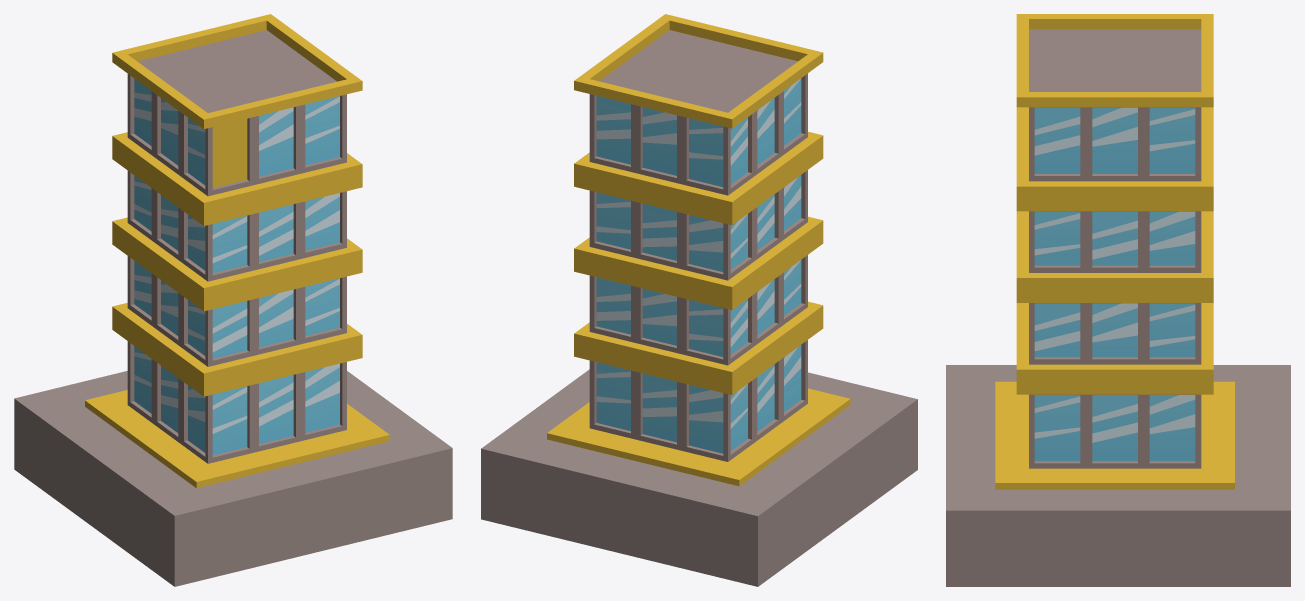
The model's file is Yellow_Office.fbx.
3 renders of one model, left to right at view 1: azimuth 30°, elevation 25°; view 2: azimuth 150°, elevation 25°; view 3: azimuth 270°, elevation 25°, orthographic. The views are drawn at different scales.
Visible parts, largest first — view 1: Yellow_Office; view 2: Yellow_Office; view 3: Yellow_Office.
Part boxes in pixels (<box>): Yellow_Office: <box>14,14,452,586</box>; Yellow_Office: <box>481,14,917,586</box>; Yellow_Office: <box>946,14,1290,586</box>.
Bounding box in the file's own units: 400 × 588 × 400.
